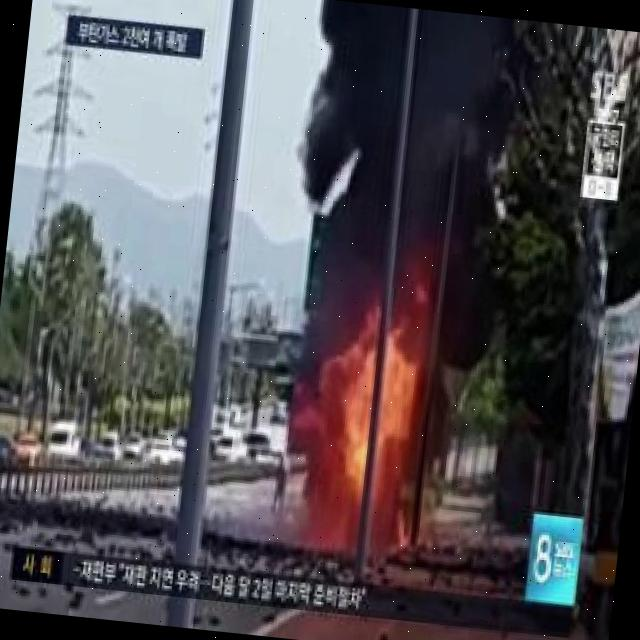fire: (302, 350, 431, 570)
